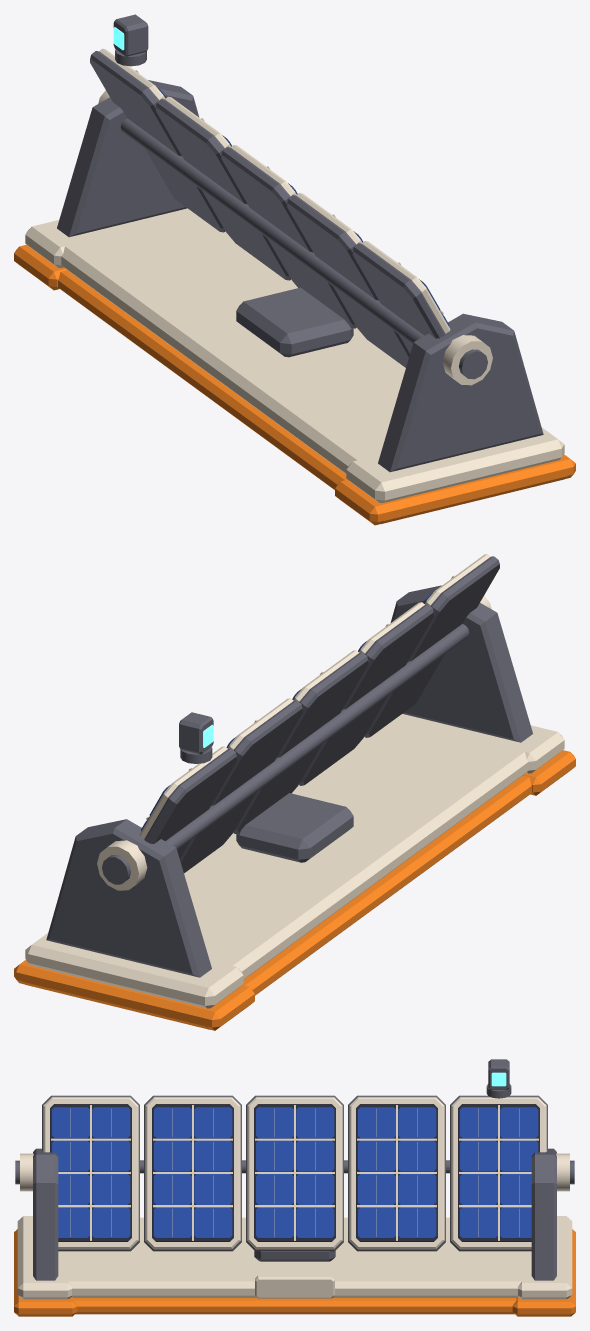
File: asset.glb
3 views of the same model, one above another, from view 1: azimuth 30°, elevation 25°; view 2: azimuth 150°, elevation 25°; view 3: azimuth 270°, elevation 25° (orthographic). The views are drawn at different scales.
Visible parts, largest first — view 1: Array frame_smooth-structure, Array frame_smooth-structure_structure-gray, Array frame_accent-paint, Panel dark back 3, Panel dark back 1, Panel dark back 2, Panel dark back 4, Panel dark back 0, Right panel cyan cube beacon_smooth-structure_structure-gray, panel_1_array-frame-0; view 2: Array frame_smooth-structure, Array frame_smooth-structure_structure-gray, Array frame_accent-paint, Panel dark back 1, Panel dark back 2, Panel dark back 3, Panel dark back 0, Panel dark back 4, Right panel cyan cube beacon_smooth-structure_structure-gray, panel_5_array-frame-4; view 3: Array frame_smooth-structure, Array frame_accent-paint, panel_3_array-cells-2, panel_2_array-cells-1, panel_4_array-cells-3, panel_1_array-cells-0, panel_5_array-cells-4, Array frame_smooth-structure_structure-gray, panel_2_array-frame-1, panel_3_array-frame-2, panel_4_array-frame-3, panel_1_array-frame-0 (+12 smaller).
Boxes of the visible parts, box(x1,y1,x2,y2) form: Array frame_smooth-structure: box(25, 90, 564, 502); Array frame_smooth-structure_structure-gray: box(57, 80, 543, 472); Array frame_accent-paint: box(14, 244, 575, 525); Panel dark back 3: box(155, 99, 290, 280); Panel dark back 1: box(287, 195, 409, 367); Panel dark back 2: box(221, 147, 356, 328); Panel dark back 4: box(90, 51, 225, 232); Panel dark back 0: box(352, 243, 445, 353); Right panel cyan cube beacon_smooth-structure_structure-gray: box(113, 14, 148, 66); panel_1_array-frame-0: box(362, 241, 450, 333); Array frame_smooth-structure: box(25, 595, 564, 1008); Array frame_smooth-structure_structure-gray: box(46, 585, 532, 977); Array frame_accent-paint: box(14, 750, 575, 1030); Panel dark back 1: box(299, 604, 434, 785); Panel dark back 2: box(233, 652, 368, 833); Panel dark back 3: box(180, 700, 302, 873); Panel dark back 0: box(364, 556, 499, 737); Panel dark back 4: box(144, 748, 237, 858); Right panel cyan cube beacon_smooth-structure_structure-gray: box(179, 712, 213, 763); panel_5_array-frame-4: box(139, 746, 227, 838); Array frame_smooth-structure: box(17, 1153, 572, 1299); Array frame_accent-paint: box(14, 1229, 575, 1316); panel_3_array-cells-2: box(255, 1107, 334, 1238); panel_2_array-cells-1: box(153, 1107, 232, 1238); panel_4_array-cells-3: box(357, 1107, 436, 1238); panel_1_array-cells-0: box(51, 1107, 130, 1238); panel_5_array-cells-4: box(459, 1107, 538, 1238); Array frame_smooth-structure_structure-gray: box(15, 1148, 574, 1280); panel_2_array-frame-1: box(145, 1097, 240, 1249); panel_3_array-frame-2: box(247, 1097, 342, 1249); panel_4_array-frame-3: box(349, 1097, 444, 1249); panel_1_array-frame-0: box(43, 1097, 138, 1249).
Bounding box in the file's own units: 1.98 × 2.38 × 5.95.
